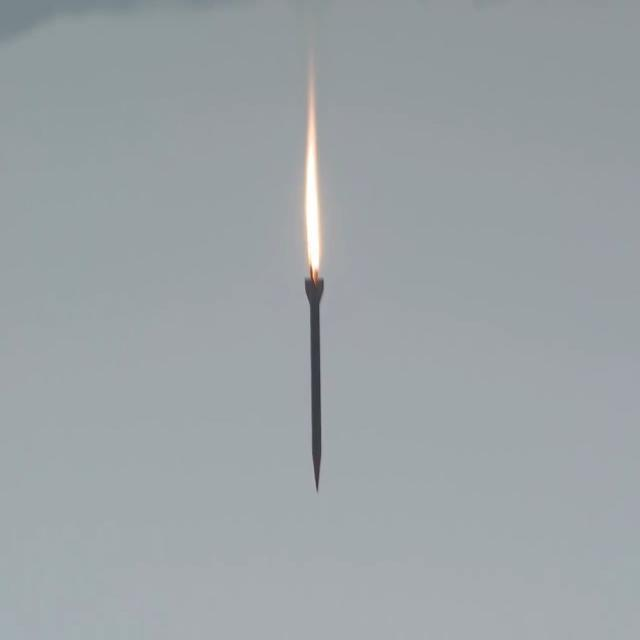missile: (302, 268, 328, 491)
